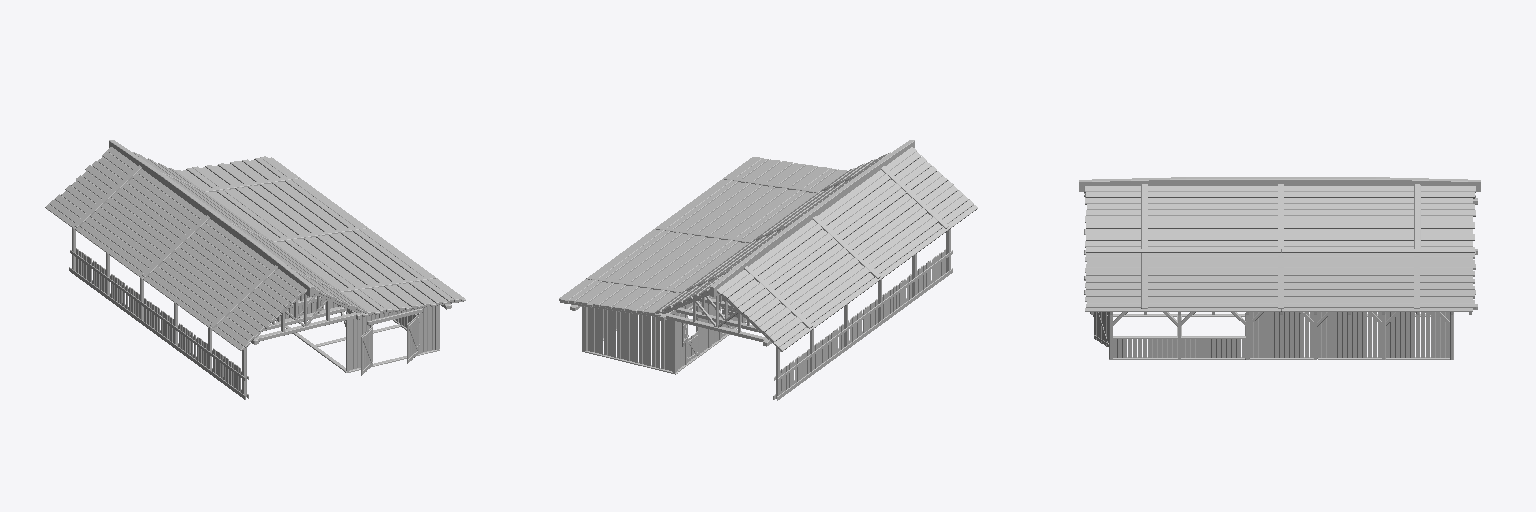
Rendered from granja.obj.
3 renders of one model, left to right at view 1: azimuth 30°, elevation 25°; view 2: azimuth 150°, elevation 25°; view 3: azimuth 270°, elevation 25°, orthographic.
Visible parts, largest first — view 1: 002; view 2: 002; view 3: 002.
Part boxes in pixels (bbox=[...]): 002: bbox=[45, 140, 465, 399]; 002: bbox=[559, 140, 977, 400]; 002: bbox=[1079, 177, 1480, 359].
Bounding box in the file's own units: 15.3 × 7.28 × 23.57.